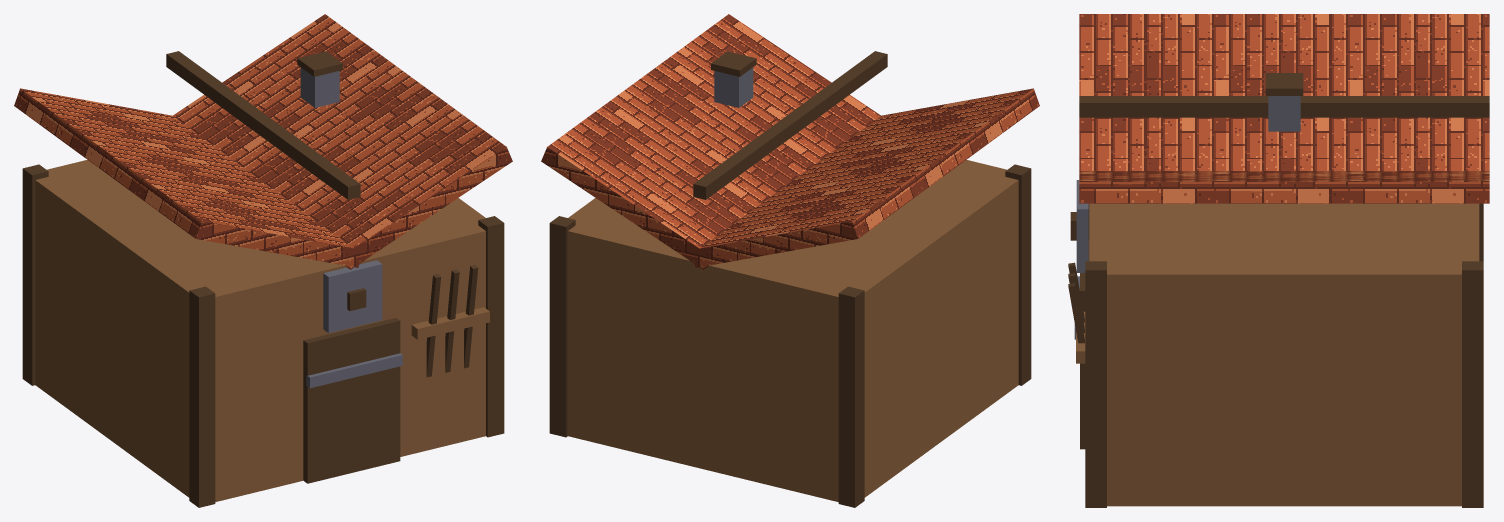
Rendered from warrior_lodge_t1.glb.
The picture shows the model from 3 angles, left to right: view 1: azimuth 30°, elevation 25°; view 2: azimuth 150°, elevation 25°; view 3: azimuth 270°, elevation 25°; orthographic projection. The views are drawn at different scales.
Parts seen in each view (by area): view 1: body, sloped_roof_r, sloped_roof_l, door, corner_post_3, ridge, corner_post_1, shield, corner_post_2, door_band, ridge_lantern, weapon_rack (+4 smaller); view 2: body, sloped_roof_r, sloped_roof_l, corner_post_2, ridge, corner_post_0, corner_post_3, ridge_lantern, ridge_lantern_cap; view 3: body, sloped_roof_l, sloped_roof_r, ridge, corner_post_0, corner_post_1, ridge_lantern, shield, ridge_lantern_cap, door, spear_shaft_2.
Boxes of the visible parts, x1,y1,x2,y2 form: body: (35,160,485,501); sloped_roof_r: (173,14,512,269); sloped_roof_l: (14,88,364,267); door: (303,318,400,483); corner_post_3: (189,286,215,507); ridge: (166,51,360,199); corner_post_1: (478,216,504,437); shield: (323,260,382,332); corner_post_2: (22,164,48,385); door_band: (306,353,402,388); ridge_lantern: (300,67,339,107); weapon_rack: (411,307,489,339); body: (568,160,1018,501); sloped_roof_r: (541,14,880,269); sloped_roof_l: (690,88,1039,267); corner_post_2: (838,286,864,507); ridge: (693,51,887,199); corner_post_0: (549,216,575,437); corner_post_3: (1005,164,1031,385); ridge_lantern: (714,67,753,107); ridge_lantern_cap: (711,51,756,76); body: (1089,203,1479,506); sloped_roof_l: (1079,14,1489,170); sloped_roof_r: (1079,171,1489,203); ridge: (1079,96,1489,117); corner_post_0: (1462,261,1483,507); corner_post_1: (1085,261,1106,507); ridge_lantern: (1268,96,1300,131); shield: (1076,180,1088,272); ridge_lantern_cap: (1265,73,1303,95); door: (1080,240,1089,449); spear_shaft_2: (1068,283,1085,382).
Size of what is drawn, in the model's own units: 3.08 by 3.07 by 3.13.
4 materials, 1 textured.
